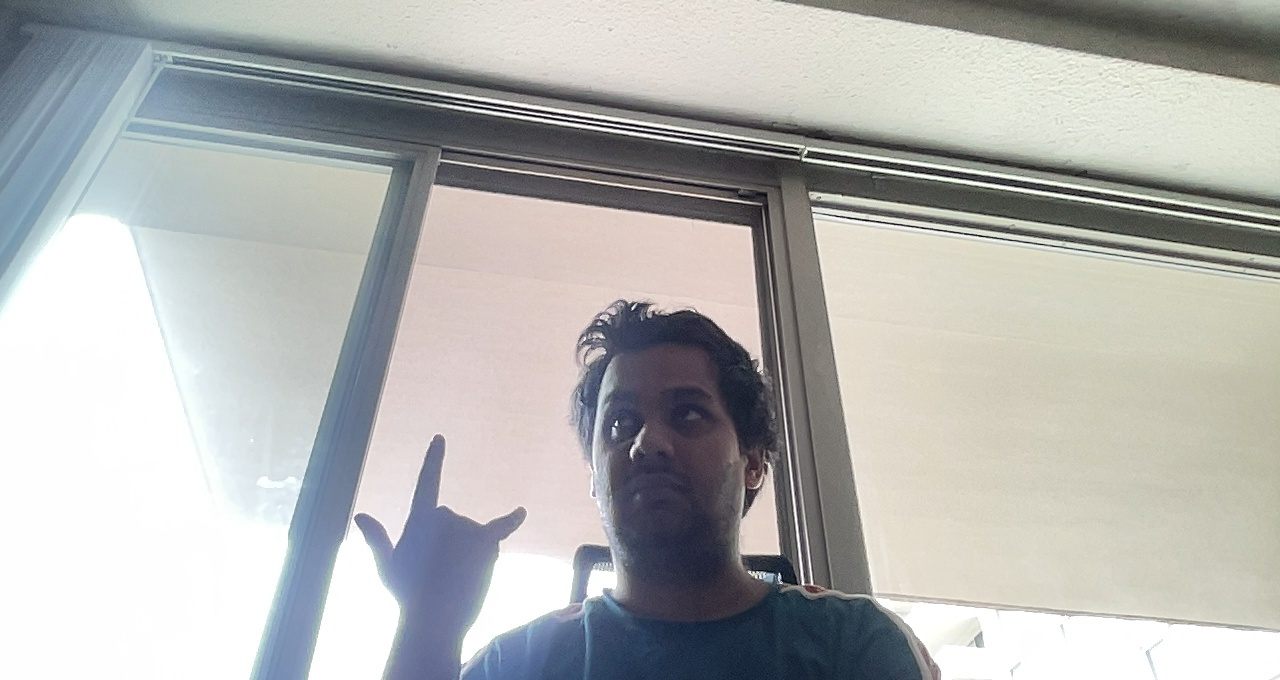rockon sign: (352, 417, 538, 621)
